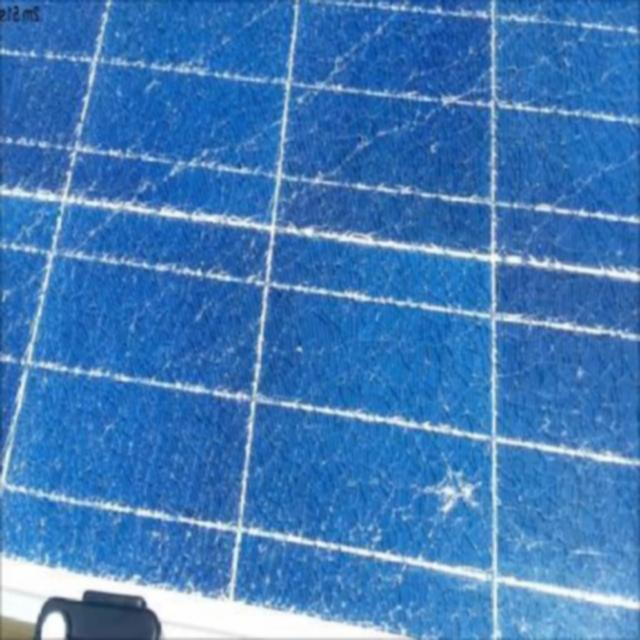cracked: (3, 7, 640, 636)
